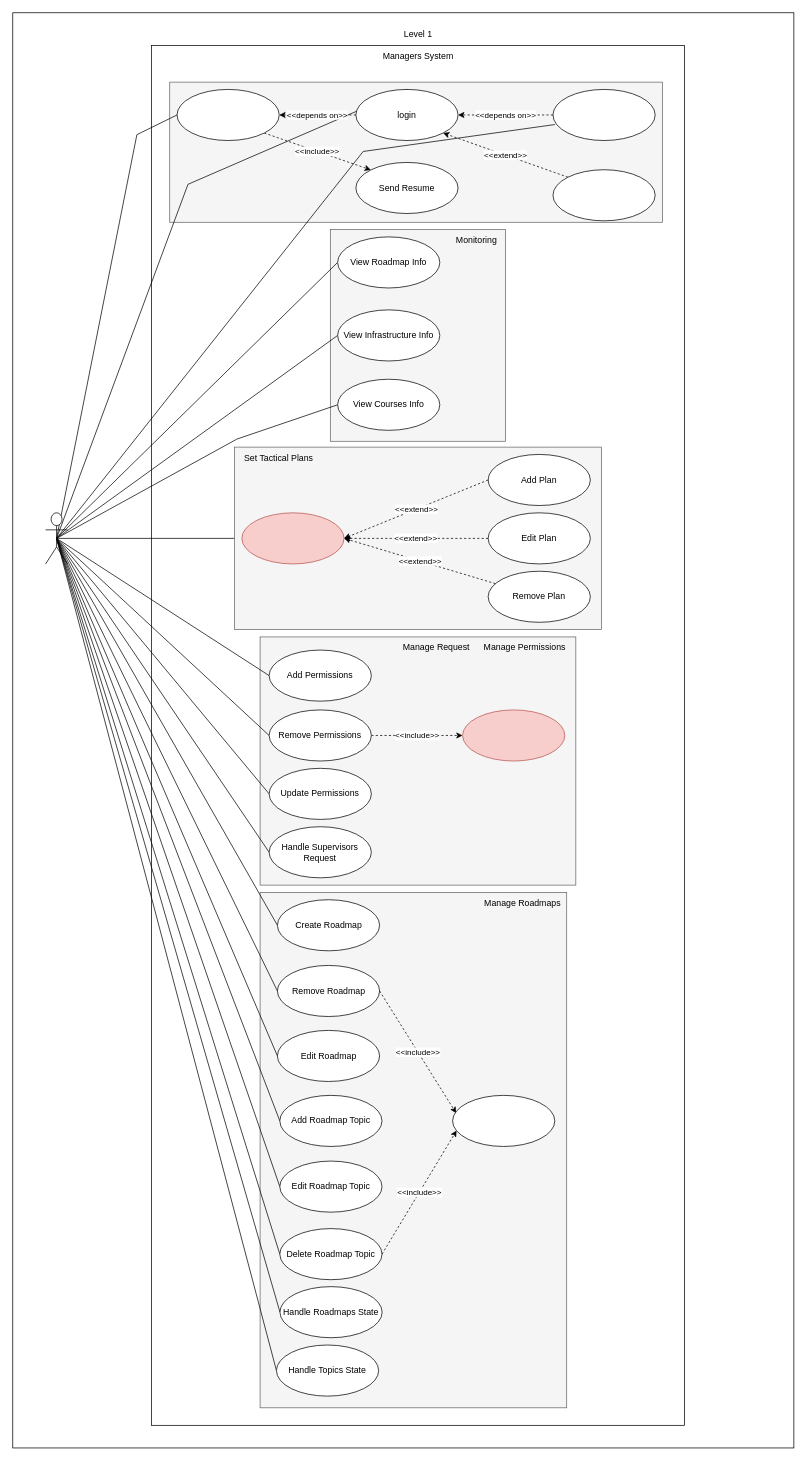
This 807x1461 diagram has some shape labels left out. The centre of each missing label's shape, as x and y in pixels:
Academic Manager: the point at 56,538
Check Courses Existence: the point at 503,1120
Check Existing Permissions: the point at 513,735
logout: the point at 603,195
Manage Profile: the point at 603,115
Register with Platform: the point at 227,115
View Plans: the point at 292,538
